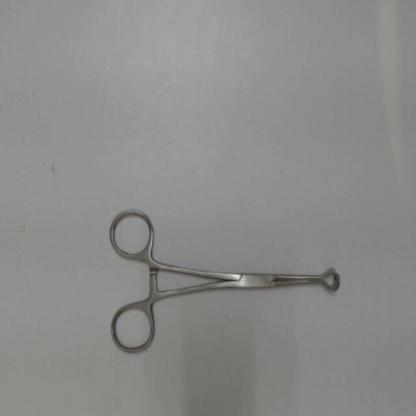Babcock Tissue Forceps: (106, 201, 342, 359)
